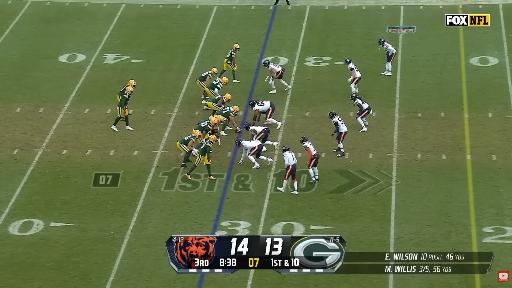Helmet: (216, 115, 226, 123), (193, 130, 201, 138), (128, 80, 136, 88), (350, 93, 359, 100), (211, 67, 218, 76), (249, 100, 256, 108), (244, 123, 251, 131), (221, 77, 228, 85), (235, 139, 242, 146), (378, 39, 385, 46), (329, 111, 336, 118), (210, 118, 217, 125), (224, 94, 231, 101), (126, 86, 133, 93), (263, 60, 270, 67), (210, 135, 217, 142), (282, 146, 290, 152), (344, 59, 351, 65), (233, 106, 239, 113), (300, 137, 307, 143), (234, 44, 239, 50)
Jersey: (332, 116, 347, 132), (283, 151, 297, 167), (195, 119, 212, 132), (347, 62, 361, 77), (199, 140, 212, 156), (216, 107, 234, 118), (253, 101, 271, 112), (118, 93, 131, 107), (303, 142, 317, 155), (241, 141, 261, 150), (383, 42, 396, 55), (354, 99, 369, 110), (207, 79, 222, 90), (179, 135, 195, 145), (226, 49, 237, 61), (199, 71, 212, 81), (269, 63, 282, 73), (250, 126, 266, 134), (118, 85, 128, 97), (208, 96, 223, 103)
Player: (186, 136, 217, 179), (235, 139, 273, 168), (111, 86, 133, 131), (263, 60, 291, 93), (278, 146, 297, 194), (250, 100, 281, 129), (177, 131, 201, 168), (244, 123, 278, 149), (350, 93, 372, 132), (300, 137, 318, 183), (329, 111, 347, 156), (195, 68, 217, 103), (216, 106, 241, 135), (220, 44, 239, 82), (194, 118, 217, 148), (379, 39, 396, 75), (204, 94, 231, 115), (345, 59, 361, 92), (205, 77, 228, 98), (211, 115, 227, 145), (117, 80, 136, 102), (117, 80, 136, 101)
